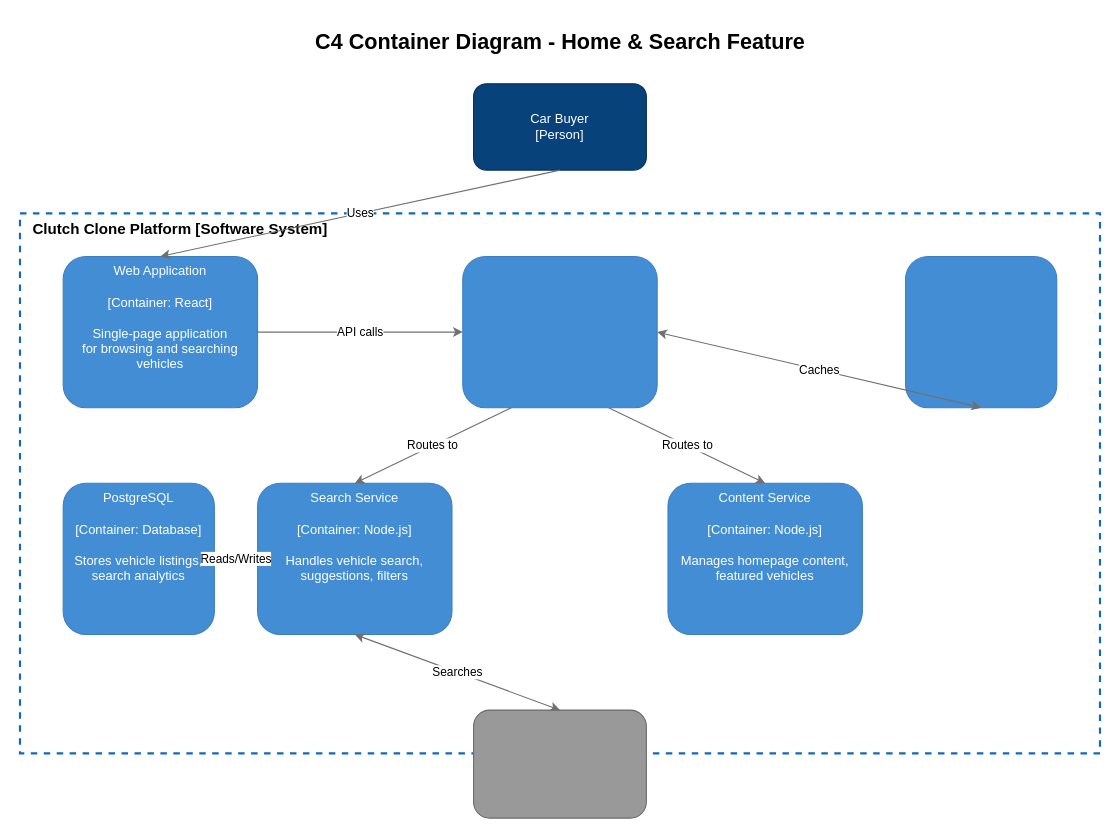
The diagram is 1119 pixels wide and 837 high, and some of its shapes have lost their labels. Here are the shapes that lost their labels. From the top down, the box of each, then its label:
(462, 255, 657, 408): API Gateway [Container: Node.js] Routes requests, handles auth, rate limiting
(905, 255, 1057, 408): Redis [Container: Cache] Caches search results, suggestions, sessions
(473, 709, 646, 818): Elasticsearch [External System] Full-text search engine
